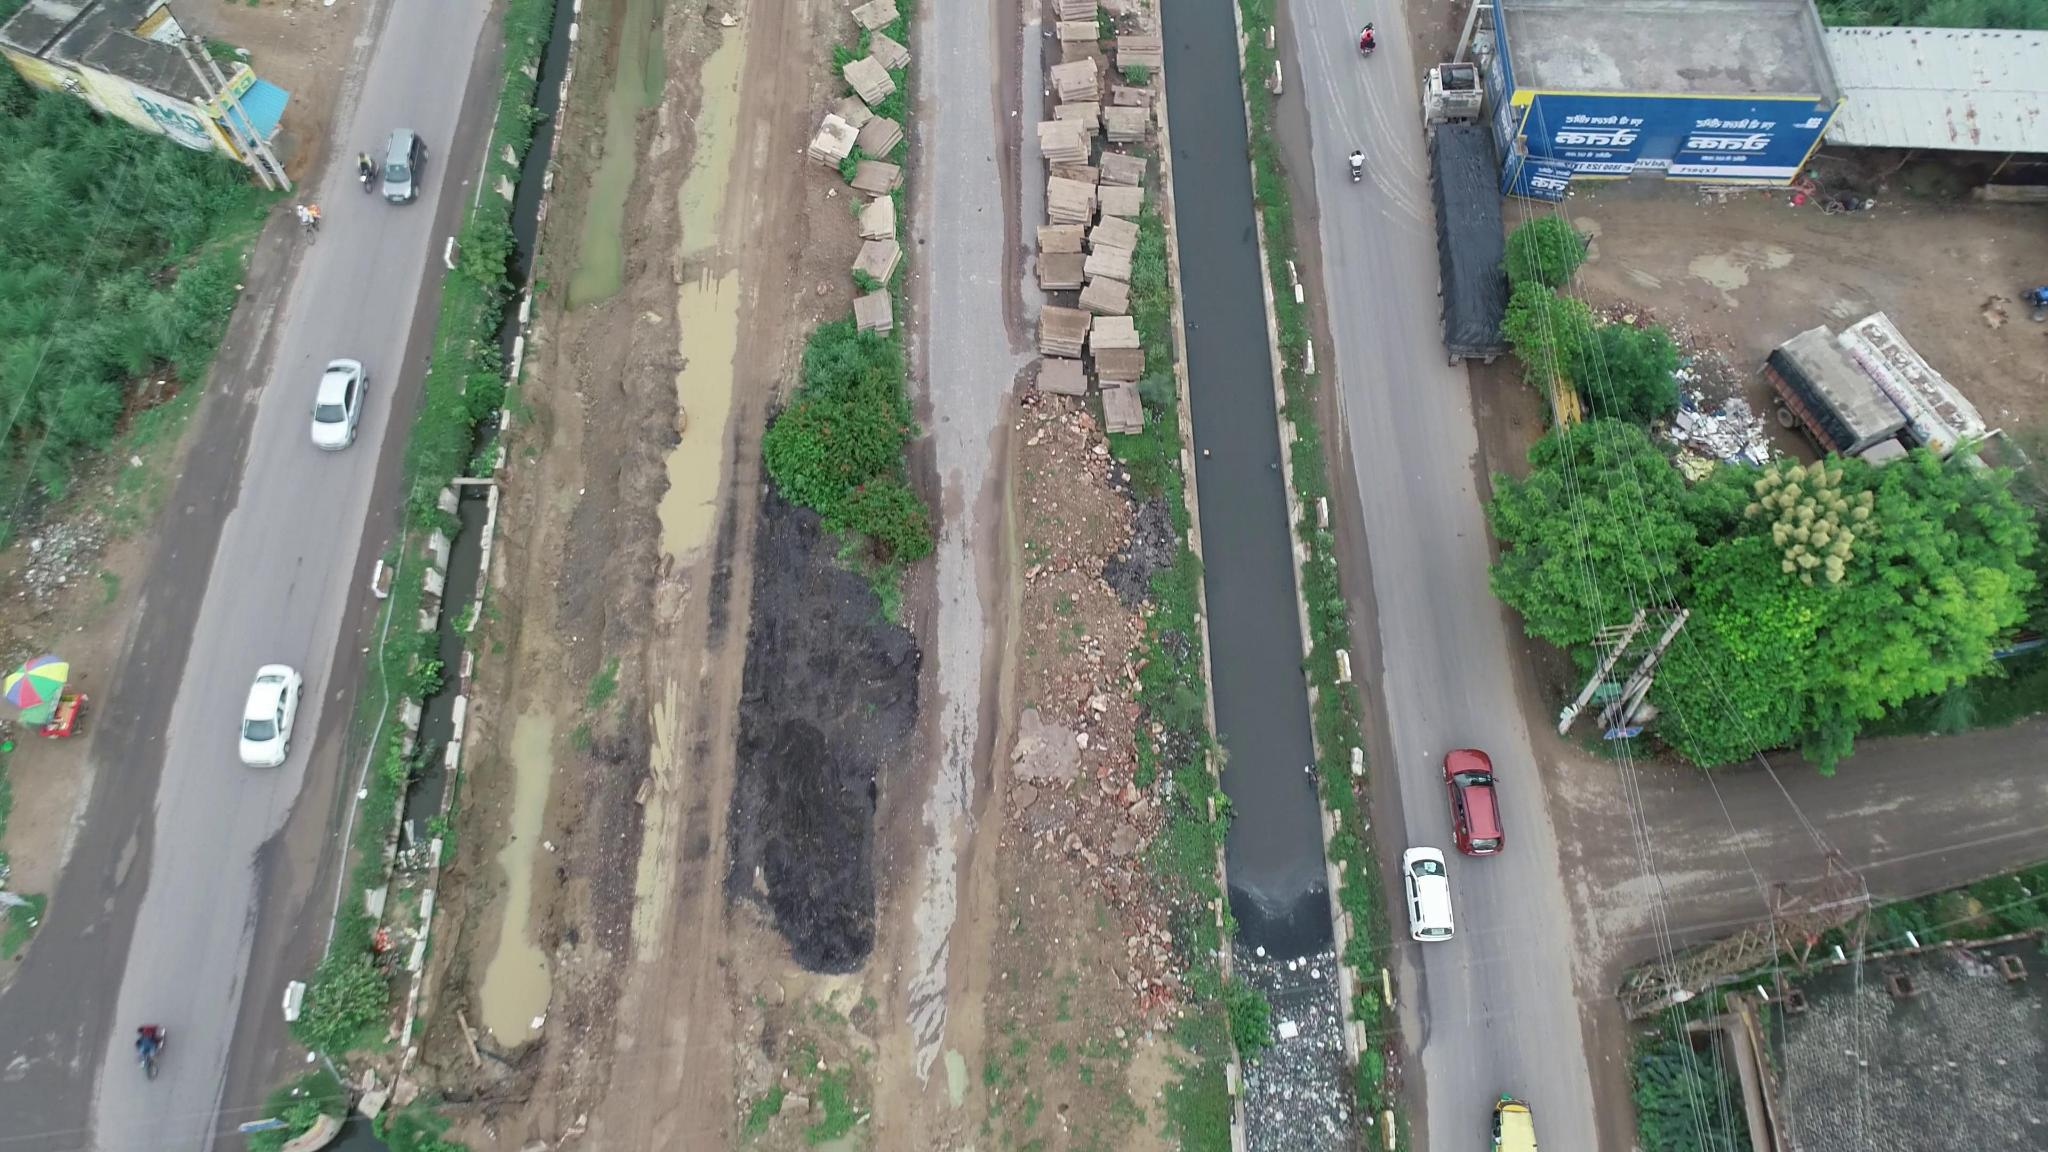Potholes: (169, 492, 210, 532)
